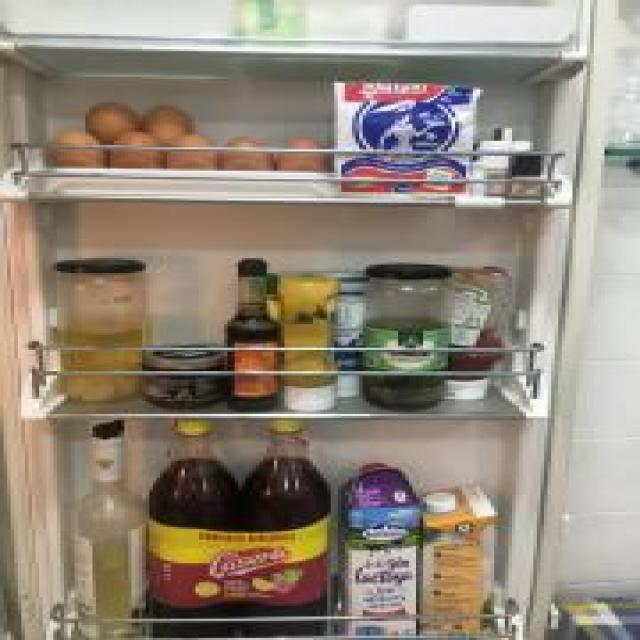egg: (217, 135, 277, 172), (83, 102, 137, 143), (279, 134, 329, 173), (49, 132, 106, 166), (112, 132, 162, 169), (146, 105, 188, 142), (171, 134, 213, 168)
marmelade: (140, 342, 230, 406)
milk: (347, 458, 418, 634), (420, 484, 494, 640)
